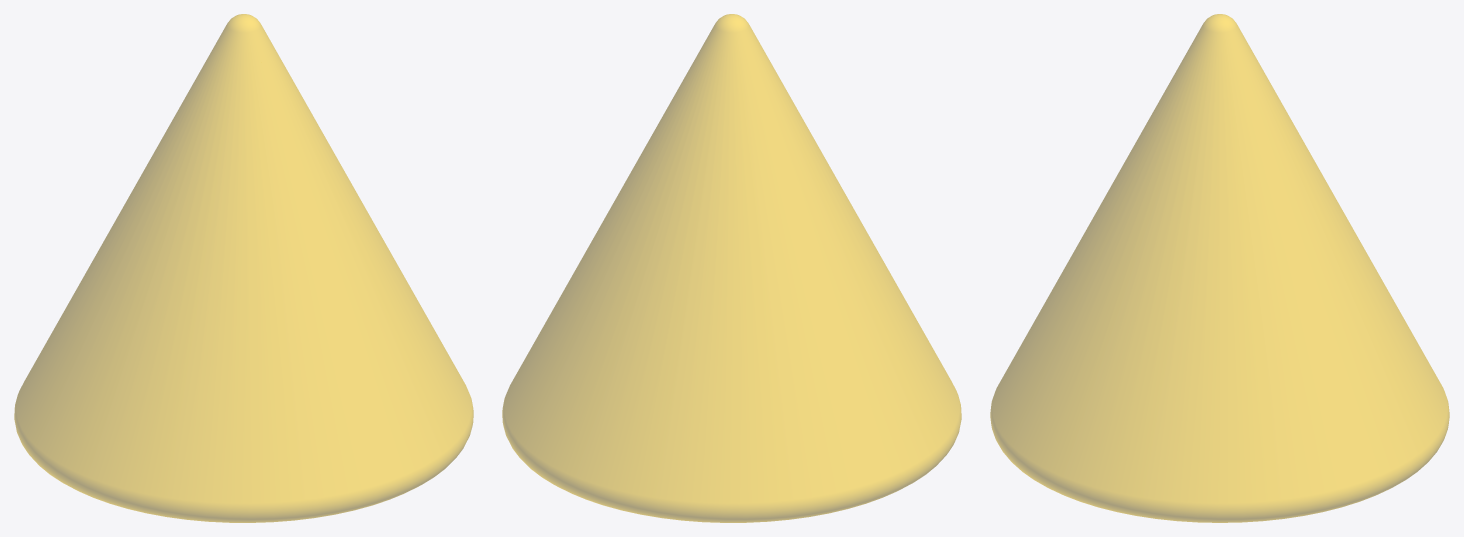
File: rayo.glb
The picture shows the model from 3 angles, left to right: view 1: azimuth 30°, elevation 25°; view 2: azimuth 150°, elevation 25°; view 3: azimuth 270°, elevation 25°; orthographic projection.
Parts seen in each view (by area): view 1: Cone - baked; view 2: Cone - baked; view 3: Cone - baked.
Boxes of the visible parts, x1=… form: Cone - baked: x1=14, y1=14, x2=473, y2=522; Cone - baked: x1=502, y1=14, x2=961, y2=522; Cone - baked: x1=990, y1=14, x2=1449, y2=522.
Size of the model in its own units: 0.3986 by 0.3986 by 0.3986.
